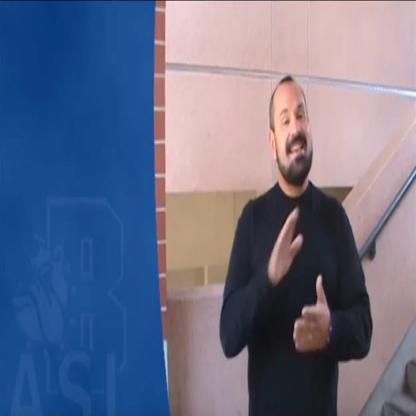NiceToMeetYou: (255, 200, 342, 380)
